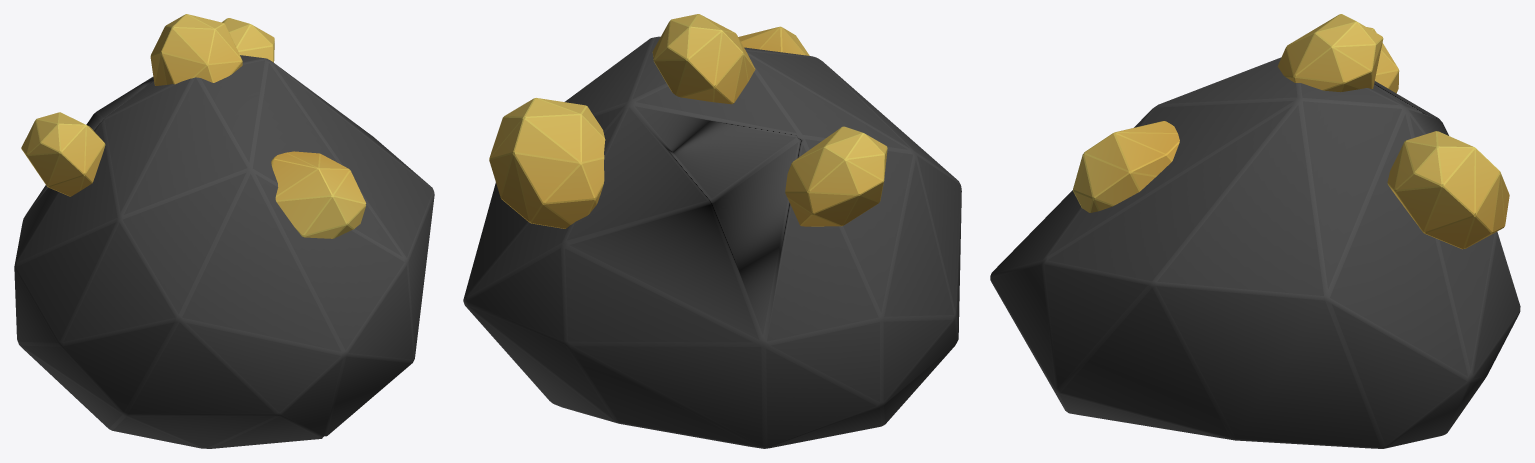
The model's file is Ore_Gold_2.glb.
3 renders of one model, left to right at view 1: azimuth 30°, elevation 25°; view 2: azimuth 150°, elevation 25°; view 3: azimuth 270°, elevation 25°, orthographic. The views are drawn at different scales.
Parts seen in each view (by area): view 1: Ore_Gold_2; view 2: Ore_Gold_2; view 3: Ore_Gold_2.
Boxes of the visible parts, left/top/right/bottom form: Ore_Gold_2: left=14, top=14, right=434, bottom=448; Ore_Gold_2: left=463, top=14, right=961, bottom=448; Ore_Gold_2: left=990, top=14, right=1520, bottom=448.
Bounding box in the file's own units: 1.37 × 1.33 × 1.55.
